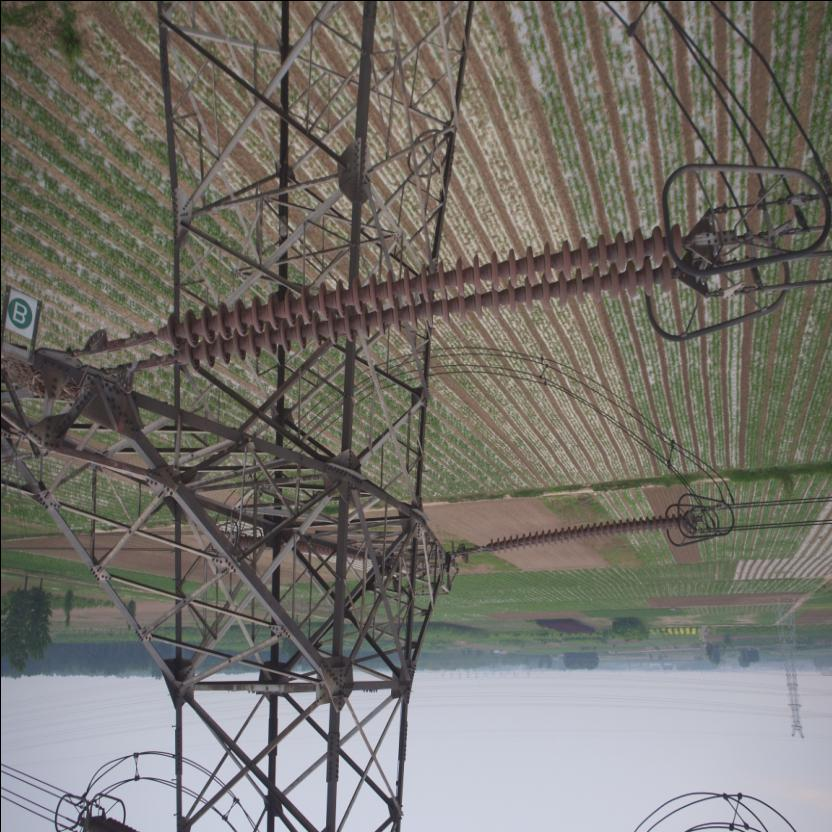insulator: (135, 220, 700, 374), (470, 510, 686, 560)
